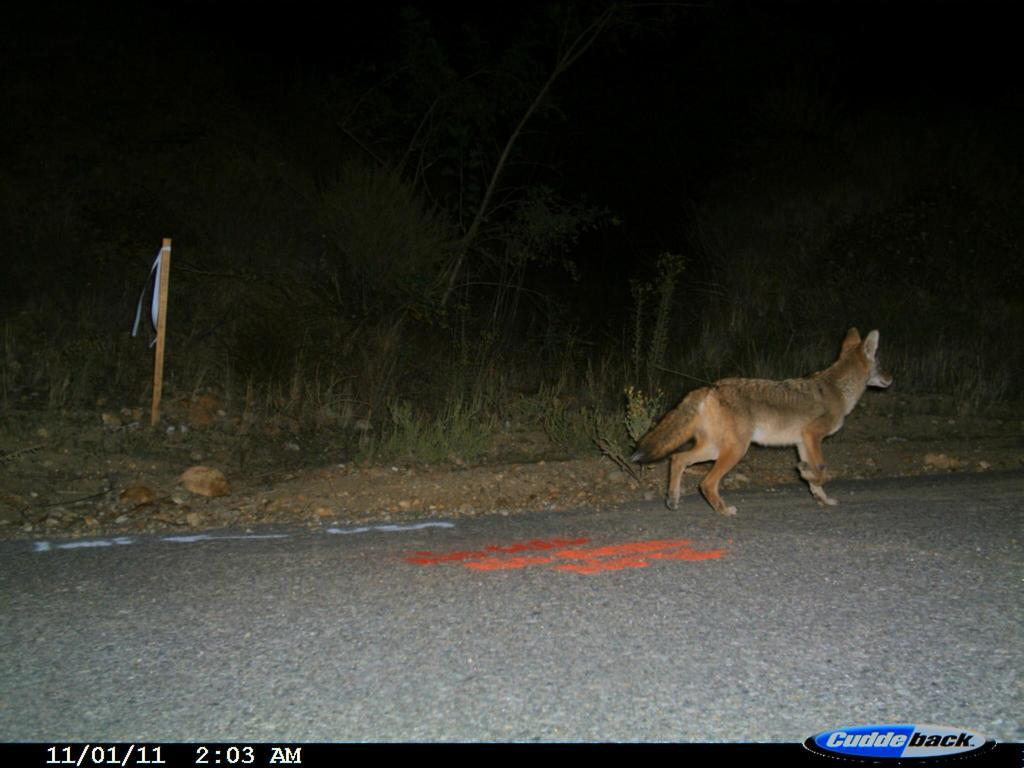coyote: (623, 319, 903, 516)
